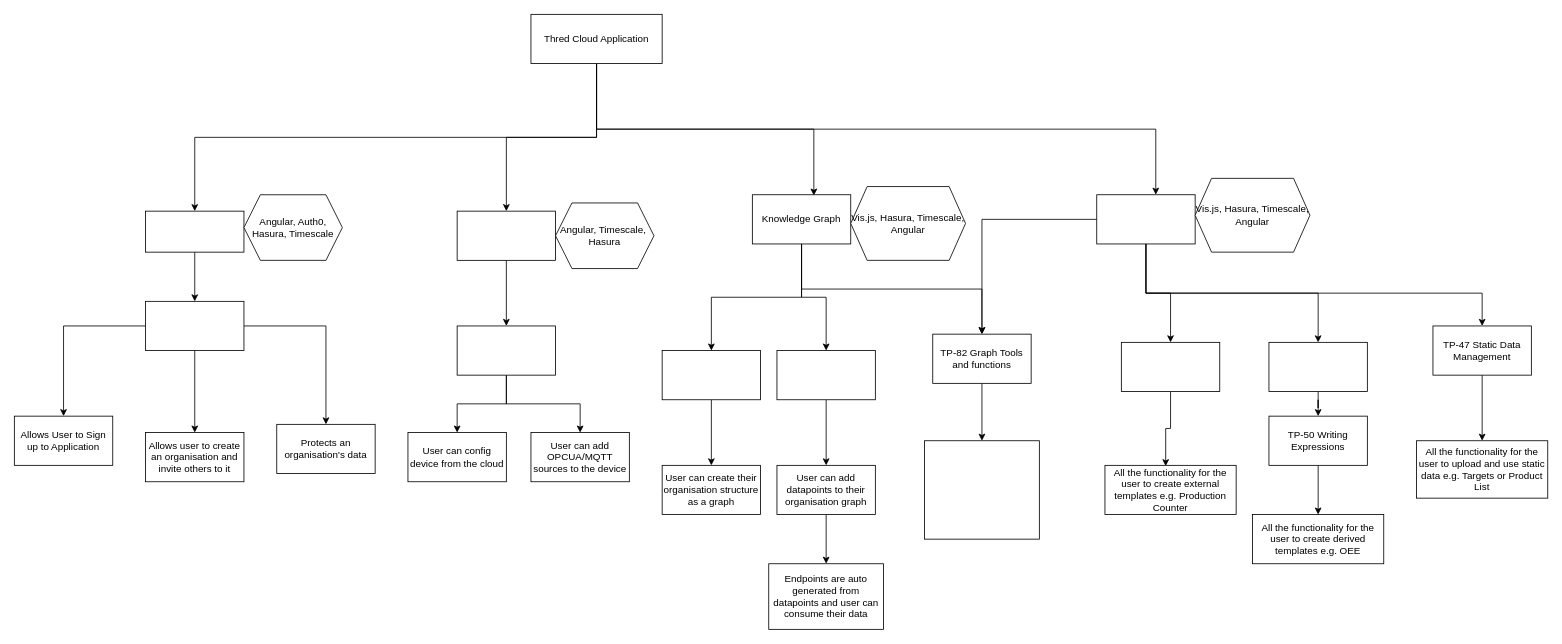
Some shapes in this 1562 by 644 pixel diagram are drawn without their labels. The shapes that lost their labels are listed below. From the top down, each one's box as (x1, y1, x2, y2) in pixels, then its label:
(145, 210, 244, 252): Authentication and Authorisation
(456, 210, 556, 260): Devices
(1096, 194, 1195, 244): Templates
(145, 301, 244, 351): TP - 43 User Onboarding
(456, 325, 556, 375): TP-46 Device Management
(1121, 342, 1220, 392): TP-51 External Template Management
(1268, 342, 1367, 392): TP-52 Derived Template Management
(661, 350, 761, 400): TP-44 Knowledge Graph for Assets
(776, 350, 875, 400): TP-45 Knowledge Graph for Datapoints
(924, 440, 1039, 539): Creating the graph UI with searching/viewing functionality
